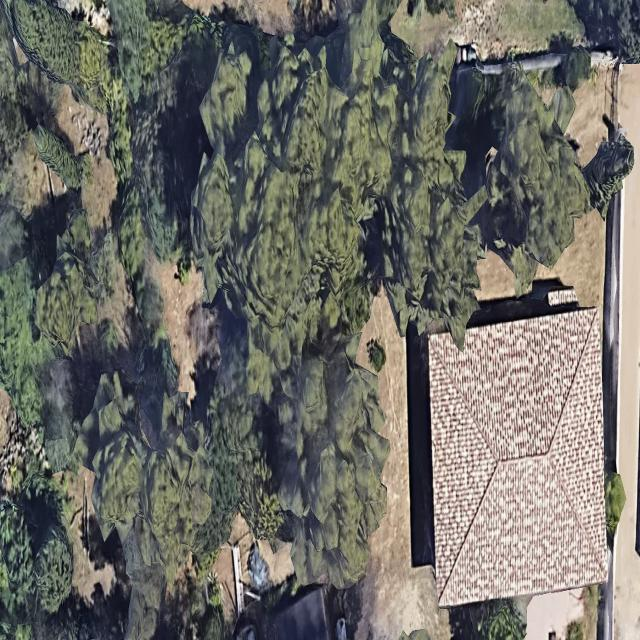maison: (427, 308, 610, 605)
